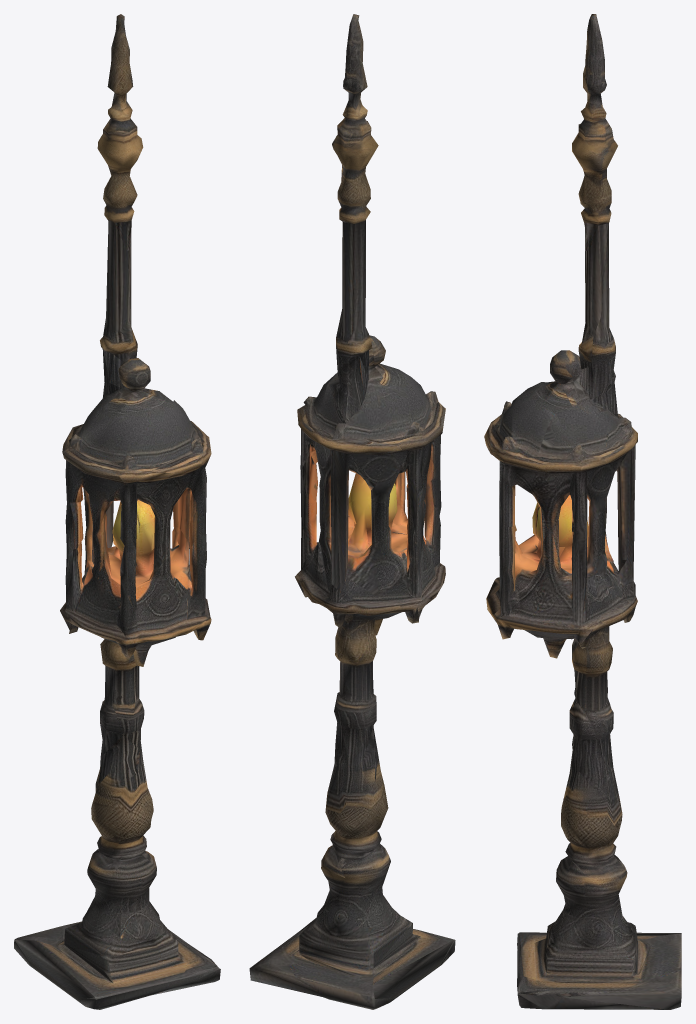
Rendered from Aurion_Street_Lamp_LOD1.glb.
3 views of the same model, side by side, from view 1: azimuth 30°, elevation 25°; view 2: azimuth 150°, elevation 25°; view 3: azimuth 270°, elevation 25° (orthographic).
Visible parts, largest first — view 1: Mesh_0; view 2: Mesh_0; view 3: Mesh_0.
Part boxes in pixels (x1,y1,x2,y2): Mesh_0: [14, 14, 220, 1009]; Mesh_0: [249, 14, 455, 1009]; Mesh_0: [484, 14, 681, 1009].
Bounding box in the file's own units: 0.2699 × 1.9 × 0.352.
1 material, 1 textured.
